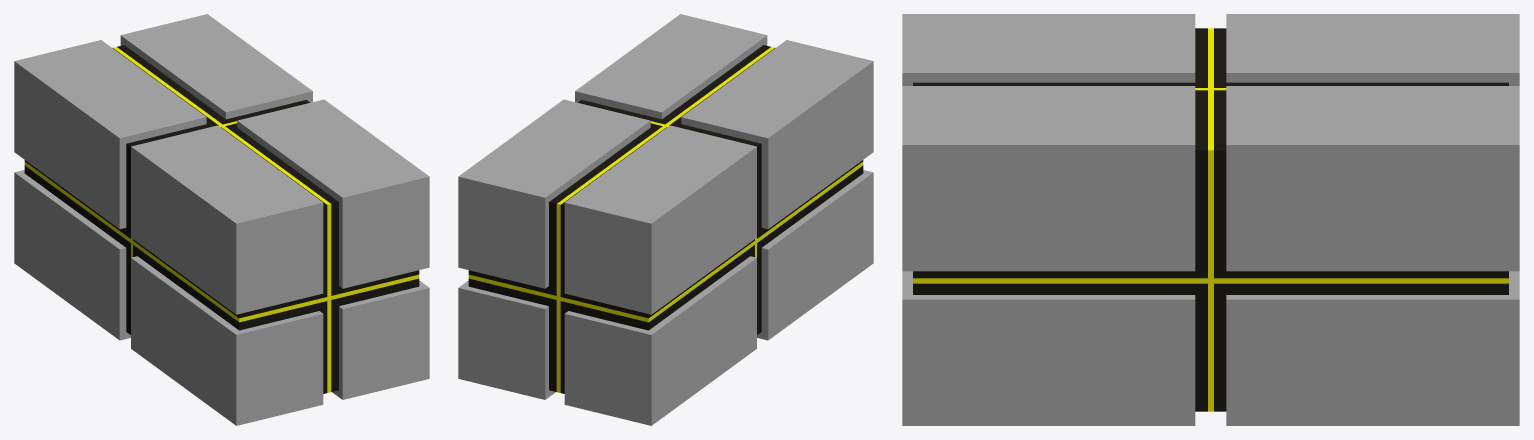
File: Energy_Crate_1x2_Yellow.fbx
The picture shows the model from 3 angles, left to right: view 1: azimuth 30°, elevation 25°; view 2: azimuth 150°, elevation 25°; view 3: azimuth 270°, elevation 25°; orthographic projection. The views are drawn at different scales.
Visible parts, largest first — view 1: Energy_Crate_1x2_Yellow; view 2: Energy_Crate_1x2_Yellow; view 3: Energy_Crate_1x2_Yellow.
Part boxes in pixels (x1,y1,x2,y2): Energy_Crate_1x2_Yellow: [14, 14, 429, 425]; Energy_Crate_1x2_Yellow: [458, 14, 873, 425]; Energy_Crate_1x2_Yellow: [902, 14, 1519, 425].
Bounding box in the file's own units: 100 × 100 × 199.
